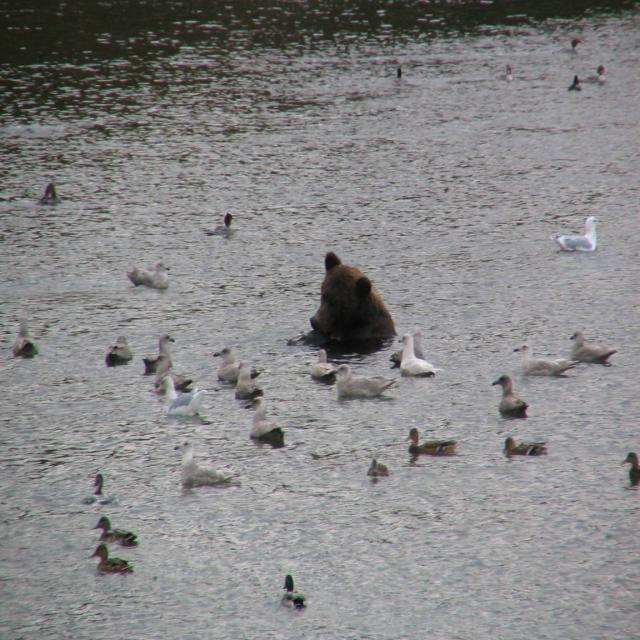bear face: (310, 252, 394, 349)
